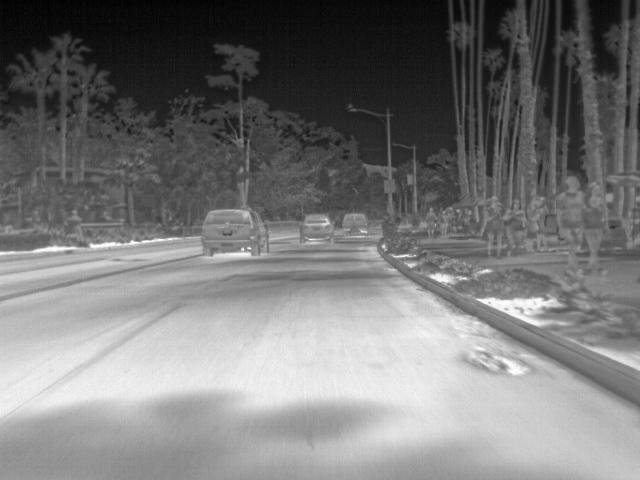car: (201, 206, 264, 256), (299, 213, 334, 244), (340, 210, 369, 238)
person: (554, 175, 583, 275), (581, 182, 610, 272), (477, 200, 508, 260), (510, 202, 528, 257), (532, 199, 547, 253), (424, 206, 439, 238), (438, 212, 451, 237)
